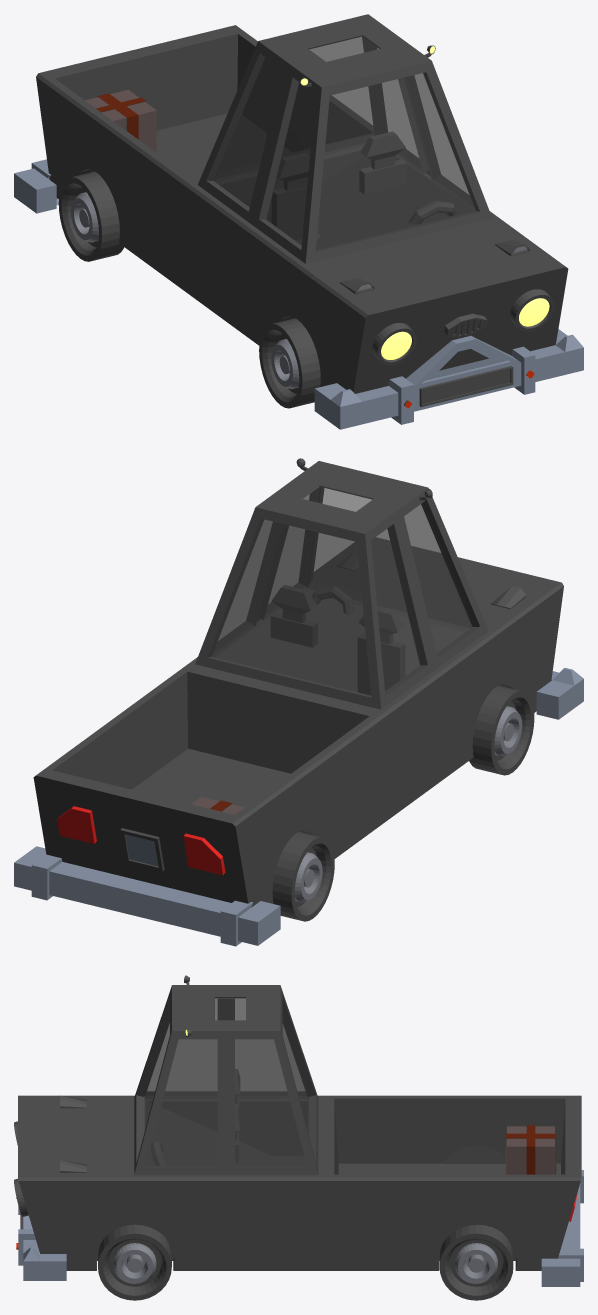
Rendered from PickupCartoon.fbx.
3 renders of one model, top to bottom at view 1: azimuth 30°, elevation 25°; view 2: azimuth 150°, elevation 25°; view 3: azimuth 270°, elevation 25°, orthographic. The views are drawn at different scales.
Visible parts, largest first — view 1: Cube.005, Cube; view 2: Cube.005; view 3: Cube.005, Cube.
Part boxes in pixels (x1,y1,x2,y2): Cube.005: (14, 14, 583, 429); Cube: (85, 89, 156, 152); Cube.005: (14, 458, 583, 946); Cube.005: (14, 975, 583, 1300); Cube: (505, 1125, 556, 1174).
Bounding box in the file's own units: 298 × 340 × 703.
